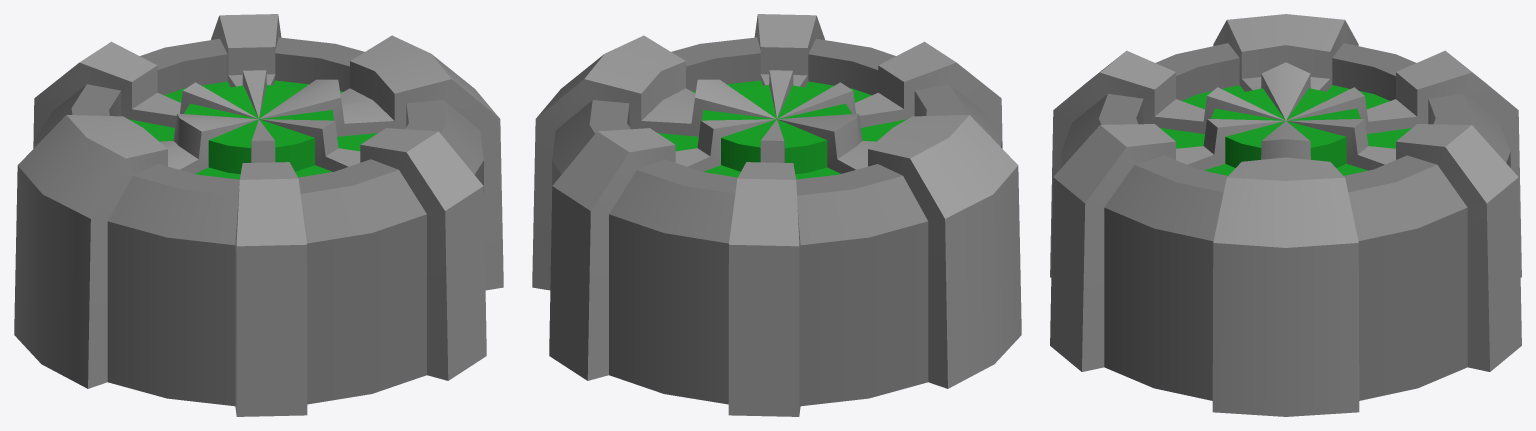
File: JT_Reactor_Temp.fbx
3 views of the same model, side by side, from view 1: azimuth 30°, elevation 25°; view 2: azimuth 150°, elevation 25°; view 3: azimuth 270°, elevation 25° (orthographic).
Visible parts, largest first — view 1: Reactor_Frame, Reactor_Core; view 2: Reactor_Frame, Reactor_Core; view 3: Reactor_Frame, Reactor_Core.
Boxes of the visible parts, x1,y1,x2,y2 form: Reactor_Frame: [14, 14, 503, 416]; Reactor_Core: [128, 80, 377, 179]; Reactor_Frame: [532, 14, 1021, 416]; Reactor_Core: [658, 80, 907, 179]; Reactor_Frame: [1050, 14, 1521, 416]; Reactor_Core: [1160, 85, 1411, 175].
Bounding box in the file's own units: 0.1681 × 0.0796 × 0.1591.
